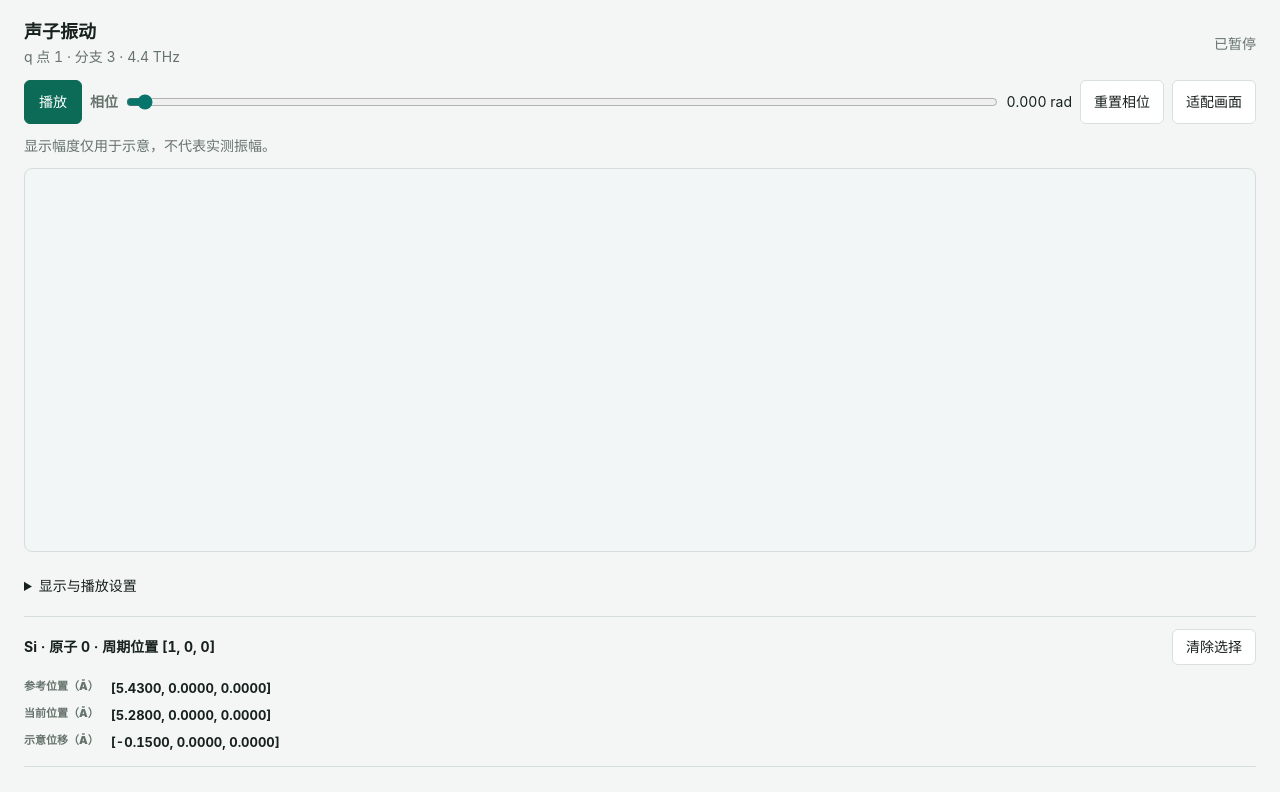
Scenario: PhononAnimationSurface › clears both the periodic atom inspector and renderer highlight
Expected: the button with aria-label "播放声子动画" is enabled, [24,80,82,124]
Expected: the text with test id "phonon-selected-atom" shows "[1, 0, 0]", [37,638,81,655]
Click the button "清除选择" at (1214, 647), box [1172,629,1256,665]
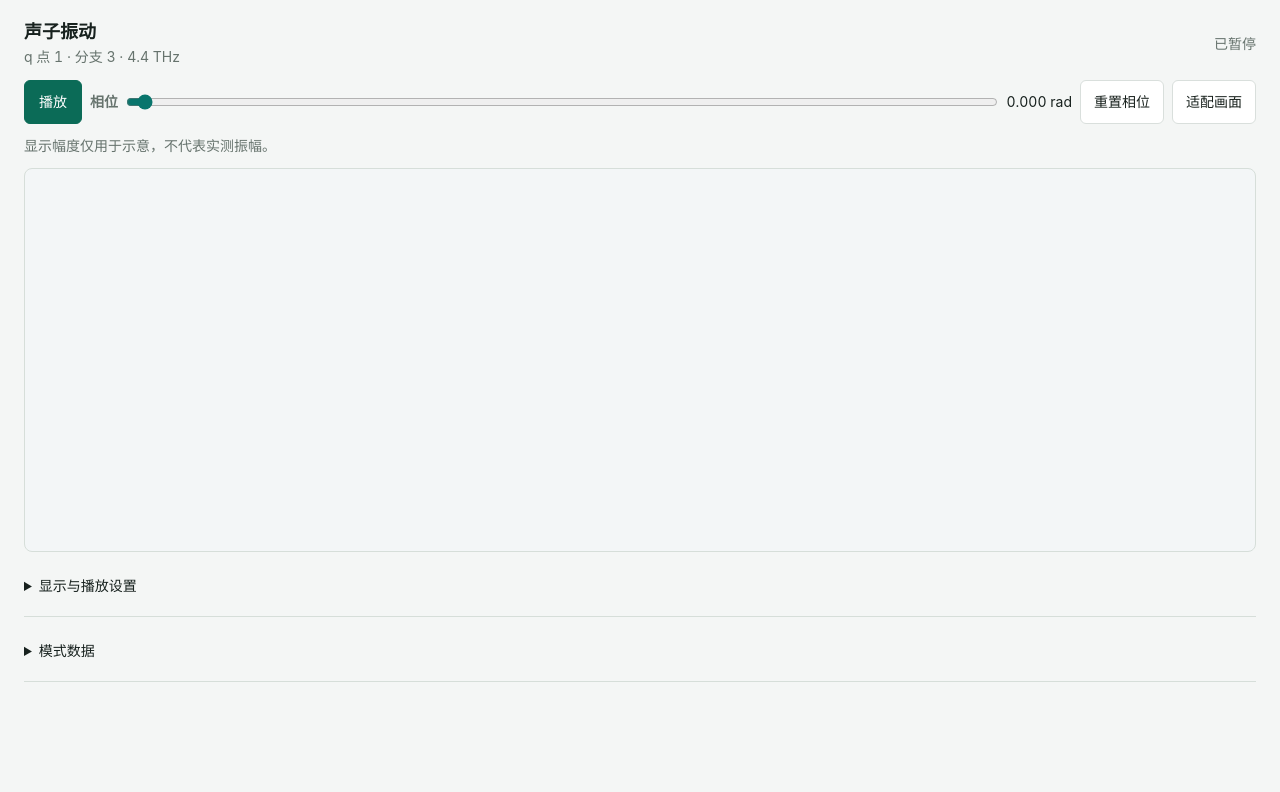
Now the element with test id "phonon-animation-inspector" is gone
